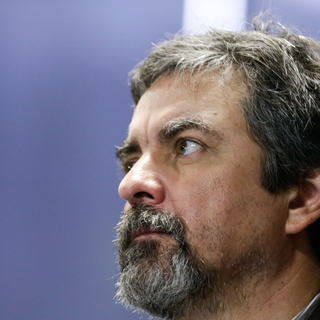eye: (167, 133, 213, 159)
